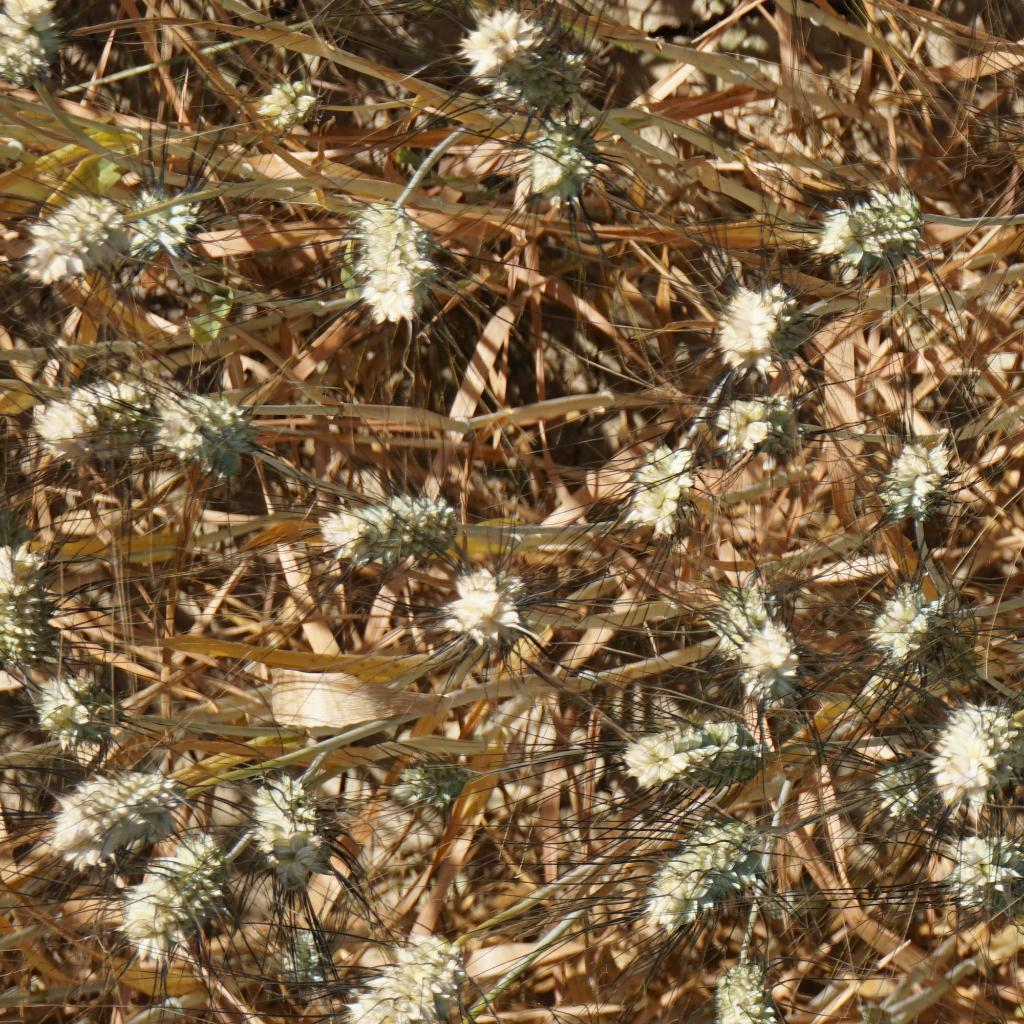0-0: (323, 177, 453, 314), (454, 4, 598, 120), (693, 586, 821, 705), (118, 826, 222, 970), (13, 179, 134, 297), (334, 929, 484, 1024), (301, 464, 439, 563), (862, 417, 968, 531), (492, 104, 606, 206), (17, 366, 149, 454), (43, 758, 169, 850), (697, 271, 801, 379), (147, 388, 269, 480), (614, 709, 777, 777), (919, 693, 1012, 811), (815, 167, 933, 258), (644, 826, 758, 919), (362, 756, 454, 856), (858, 582, 972, 661), (913, 835, 1024, 913), (238, 775, 323, 876), (439, 563, 533, 646), (608, 442, 685, 543), (709, 381, 781, 474), (125, 175, 202, 260), (0, 574, 67, 667), (846, 752, 929, 823), (238, 55, 321, 121), (0, 0, 58, 94), (698, 958, 770, 1024), (262, 905, 325, 980), (27, 679, 90, 752)
